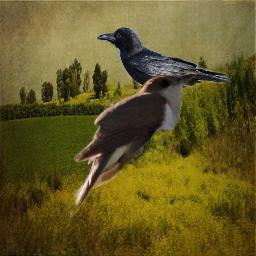Crow: (96, 27, 231, 110)
Cuckoo: (70, 71, 197, 223)
